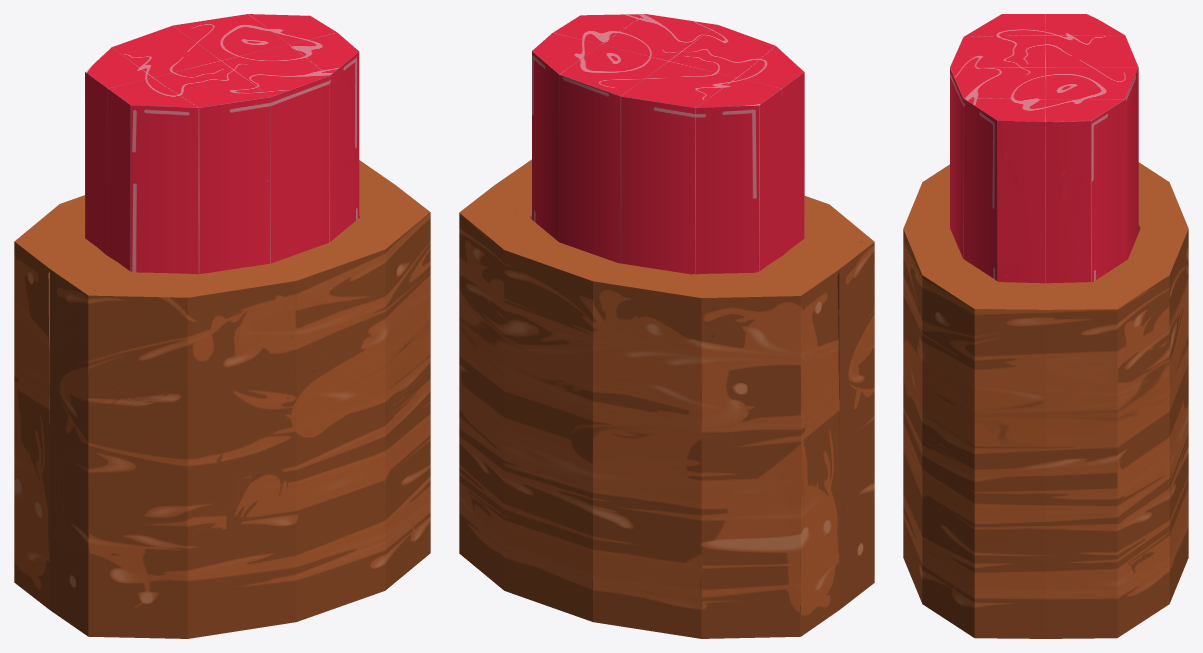
Rendered from ChocoBREAK.fbx.
The picture shows the model from 3 angles, left to right: view 1: azimuth 30°, elevation 25°; view 2: azimuth 150°, elevation 25°; view 3: azimuth 270°, elevation 25°; orthographic projection. The views are drawn at different scales.
Parts seen in each view (by area): view 1: pCylinder1, pasted__pCube3; view 2: pCylinder1, pasted__pCube3; view 3: pCylinder1, pasted__pCube3.
Part boxes in pixels (x1=…): pCylinder1: x1=14, y1=160, x2=430, y2=638; pasted__pCube3: x1=85, y1=14, x2=359, y2=274; pCylinder1: x1=459, y1=159, x2=874, y2=638; pasted__pCube3: x1=532, y1=14, x2=804, y2=274; pCylinder1: x1=903, y1=162, x2=1188, y2=638; pasted__pCube3: x1=950, y1=14, x2=1138, y2=283.
Size of the model in its own units: 8.74 by 12.28 by 6.49.
Materials: 2 (2 with a texture image).
